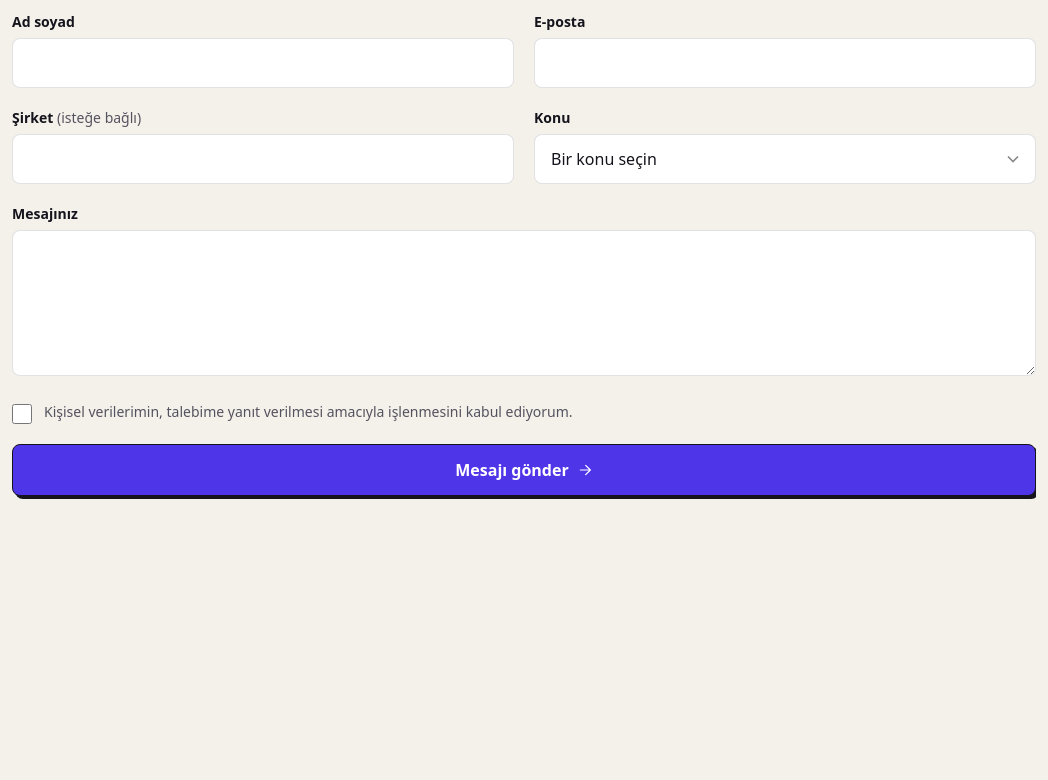
Test: ContactForm › sunucu hatasında erişilebilir bir uyarı gösterir
Type "Elif Kaya" into the field labelled "Ad soyad" at (263, 63), box [12,38,514,88]
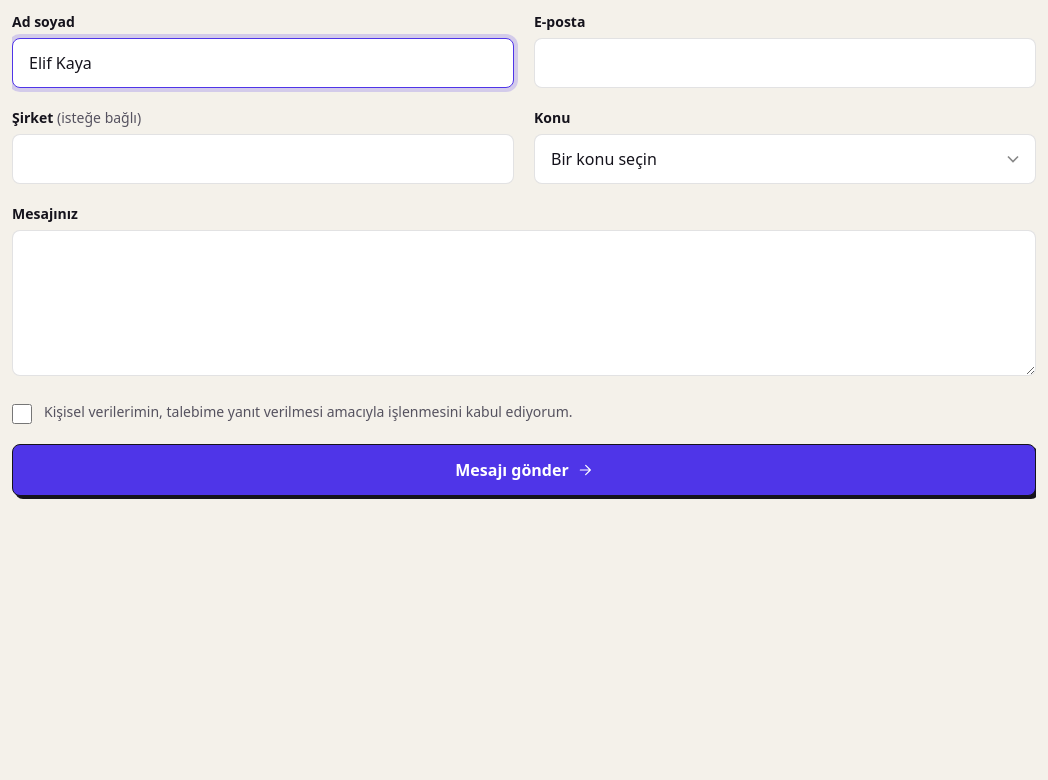
Type "elif@ornek.com" into the field labelled "E-posta" at (785, 63), box [534,38,1036,88]
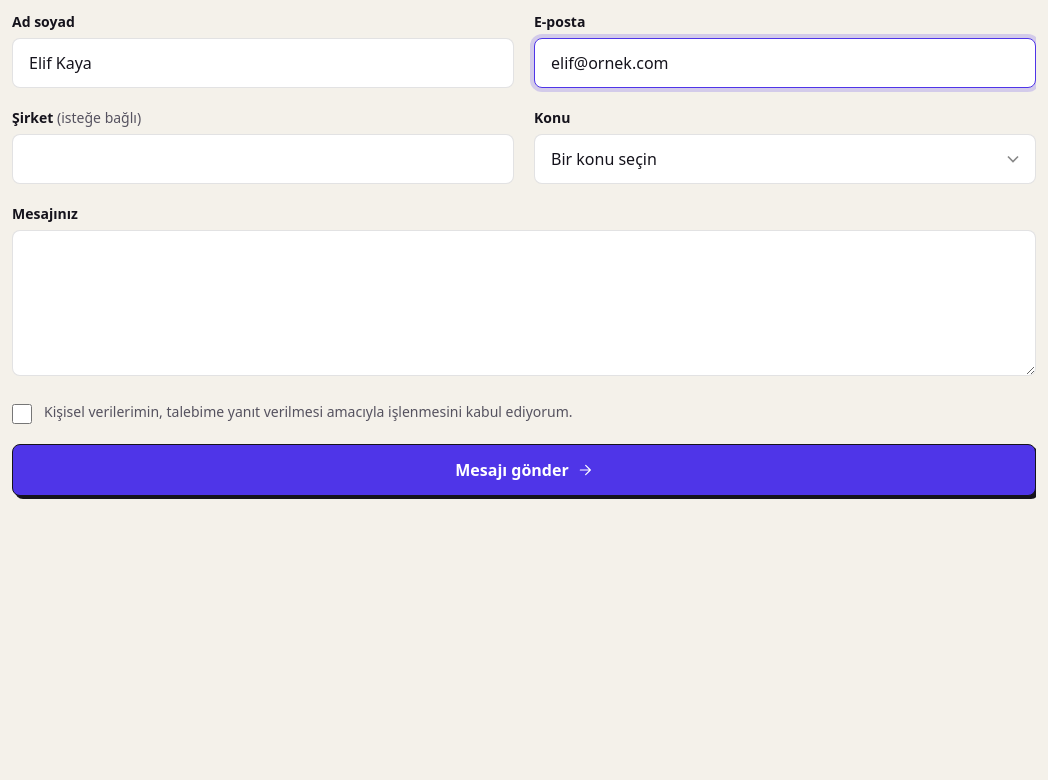
Select "Demo talebi" in the dropdown labelled "Konu" at (785, 159), box [534,134,1036,184]
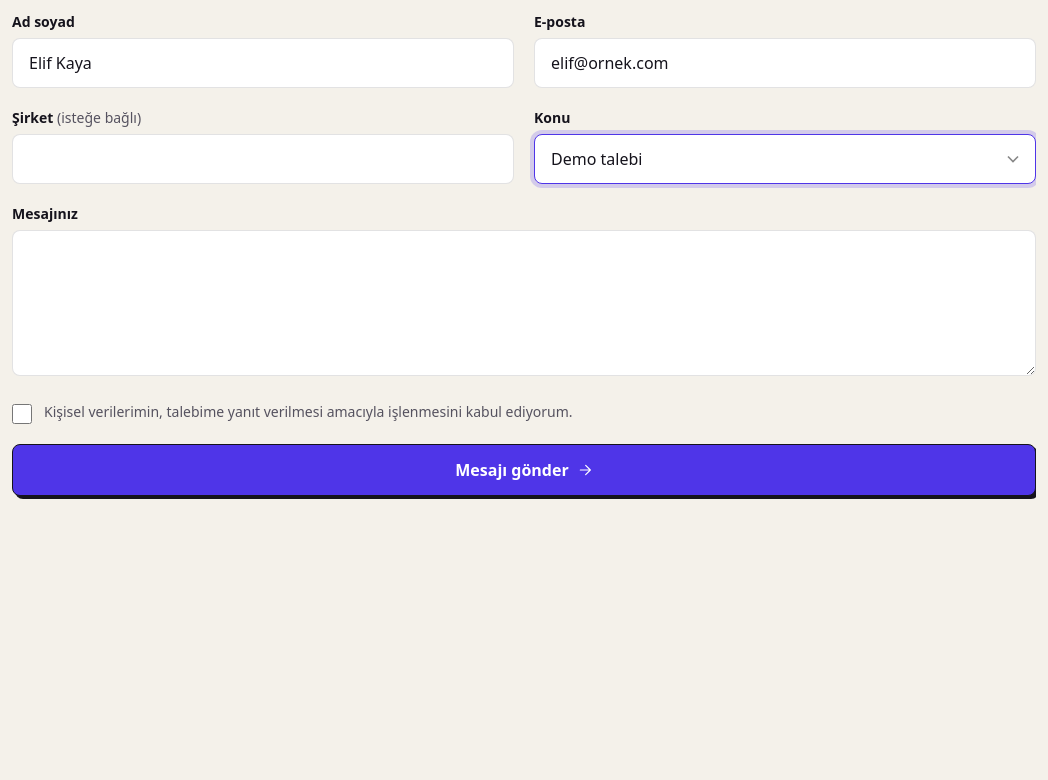
Type "Ekibimiz için bir demo görüşmesi planlamak istiyoruz." into the text box labelled "Mesajınız" at (524, 303), box [12,230,1036,376]
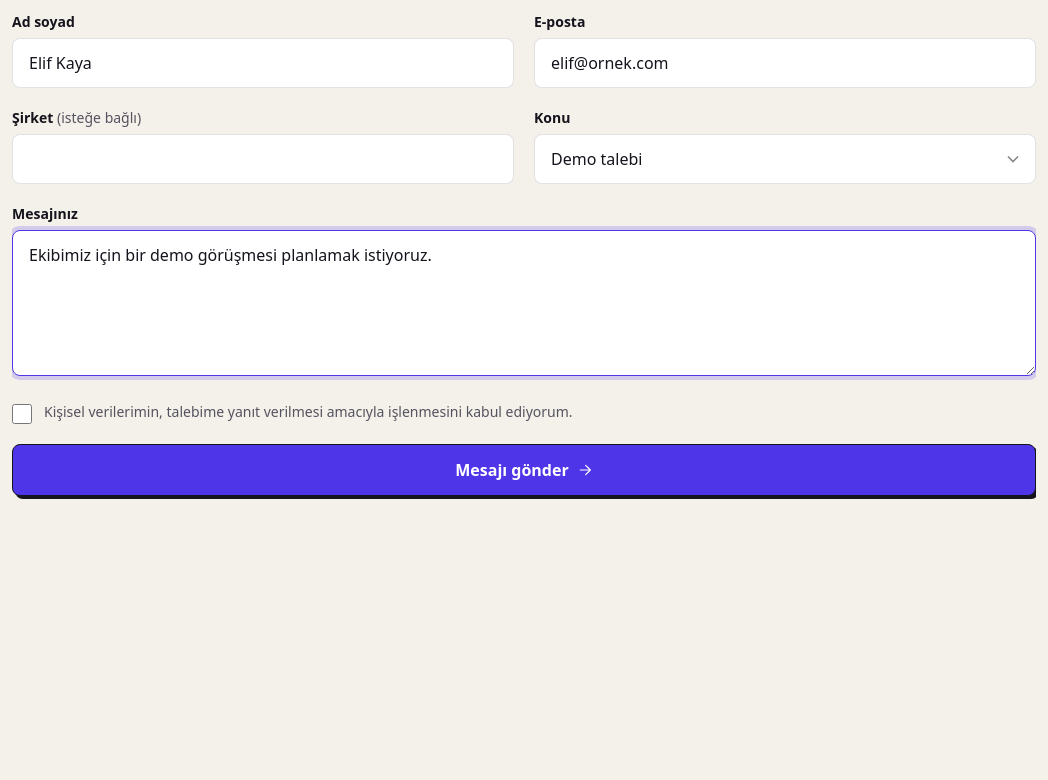
Click the checkbox labelled "Kişisel verilerimin" at (22, 414), box [12,404,32,424]
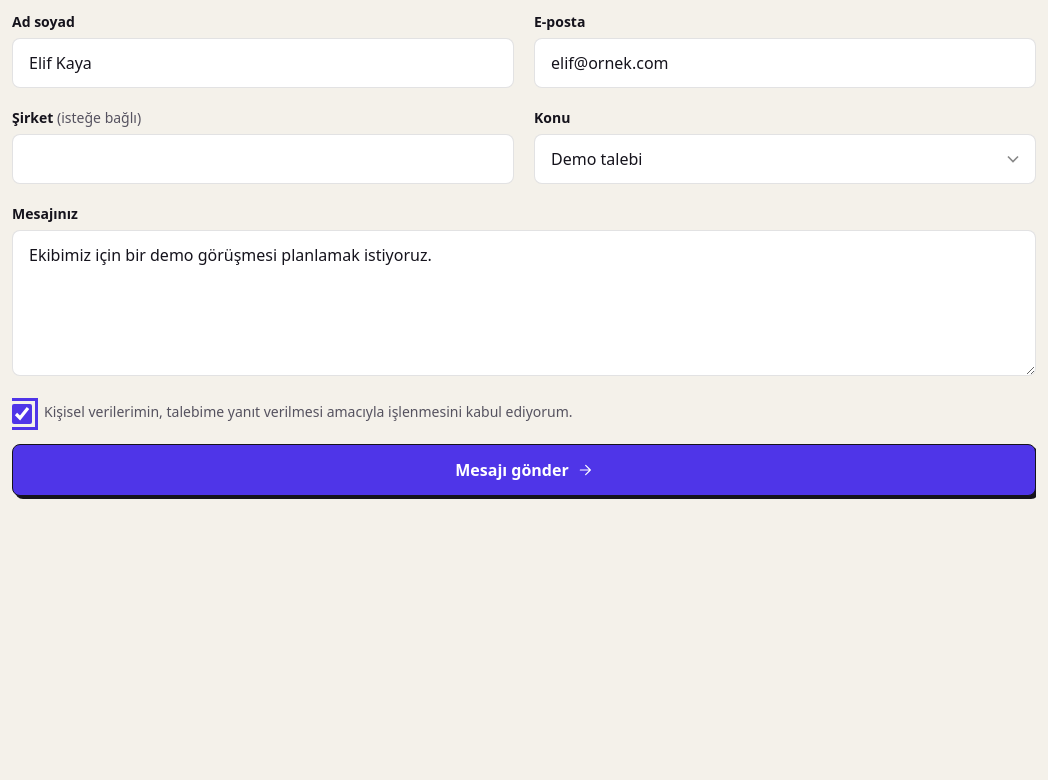
Click the button "Mesajı gönder" at (524, 470), box [12,444,1036,496]
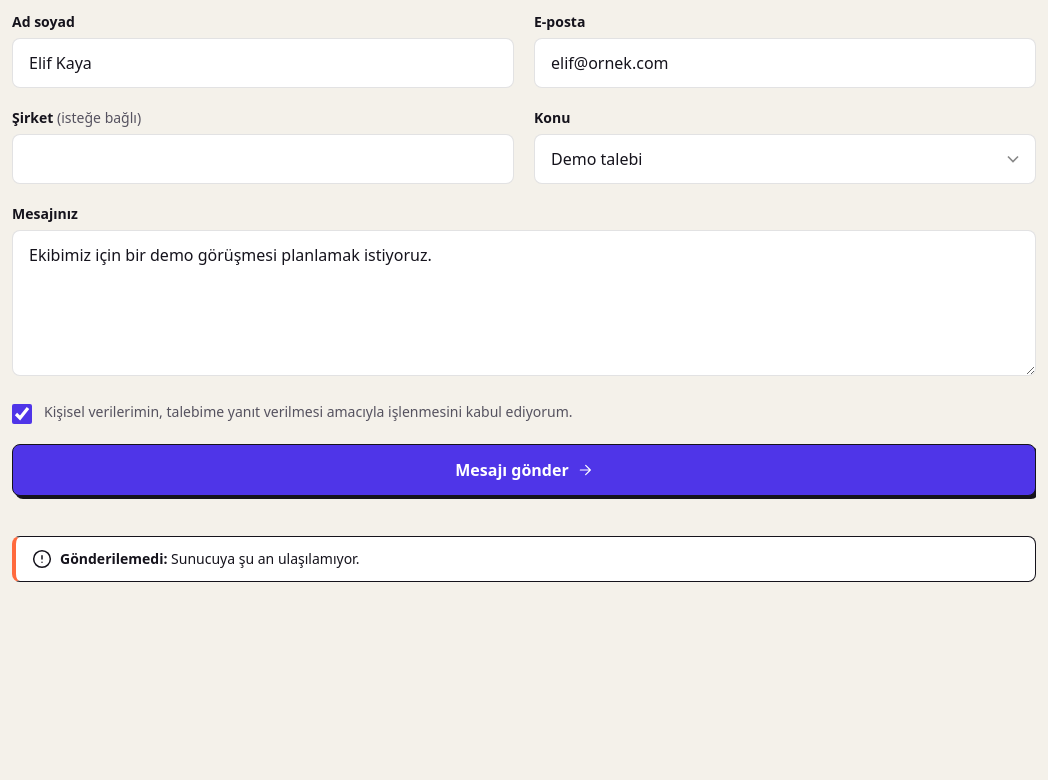
Expected: the message shows "Sunucuya şu an ulaşılamıyor.", [171,549,359,568]
